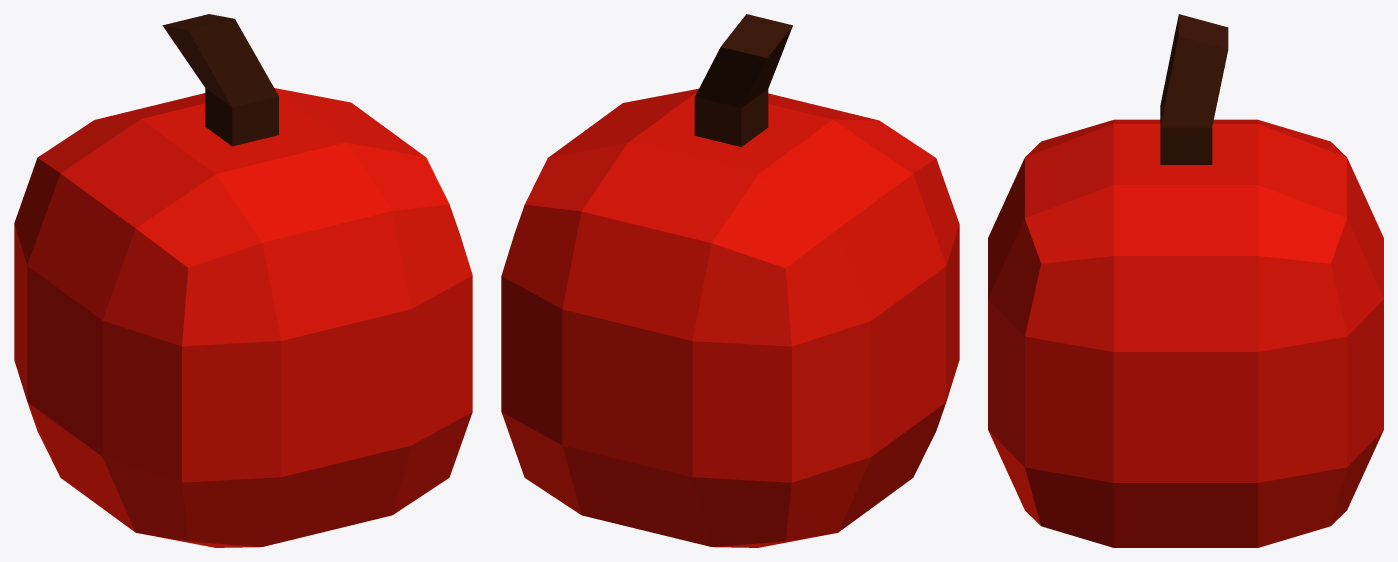
File: pixel_apple.glb
The picture shows the model from 3 angles, left to right: view 1: azimuth 30°, elevation 25°; view 2: azimuth 150°, elevation 25°; view 3: azimuth 270°, elevation 25°; orthographic projection. The views are drawn at different scales.
Bounding box in the file's own units: 1.38 × 1.81 × 1.38.
